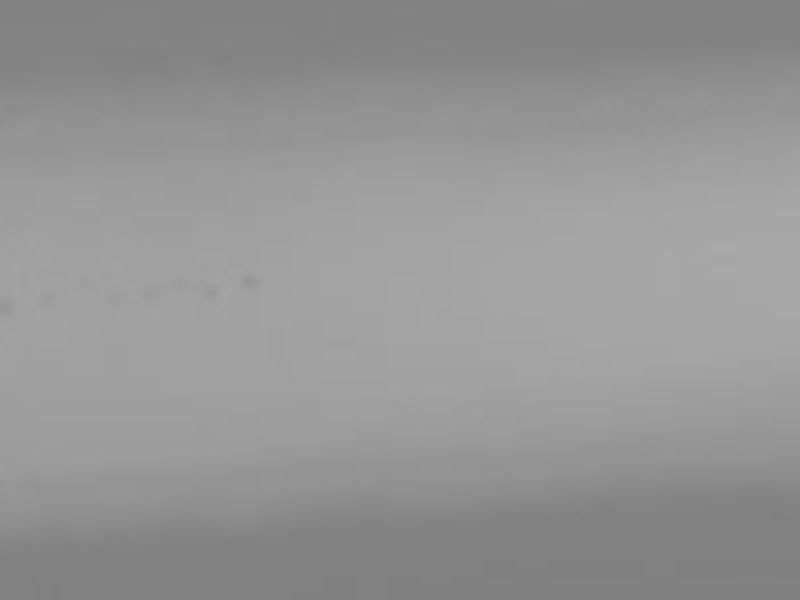defect: (198, 278, 224, 303), (239, 269, 266, 289), (1, 294, 18, 318)
